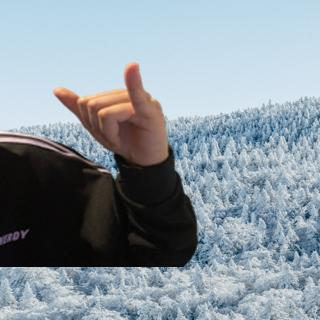HAVE: (45, 57, 173, 167)
